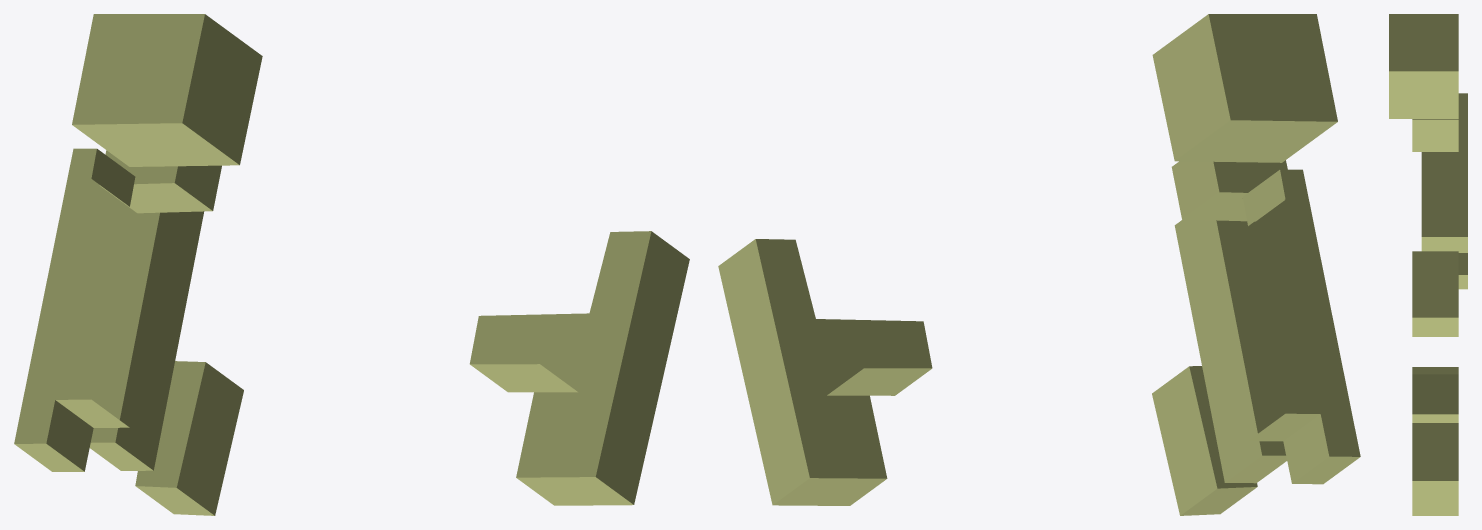
3 views of the same model, side by side, from view 1: azimuth 30°, elevation 25°; view 2: azimuth 150°, elevation 25°; view 3: azimuth 270°, elevation 25° (orthographic). The views are drawn at different scales.
Parts seen in each view (by area): view 1: 0_1_0_1_3_3_3_2; view 2: 0_1_0_1_3_3_3_2; view 3: 0_1_0_1_3_3_3_2.
Part boxes in pixels (x1,y1,x2,y2): 0_1_0_1_3_3_3_2: [14, 14, 689, 515]; 0_1_0_1_3_3_3_2: [718, 14, 1360, 515]; 0_1_0_1_3_3_3_2: [1389, 14, 1467, 515].
Size of the model in its own units: 56.79 by 50.44 by 10.2.
